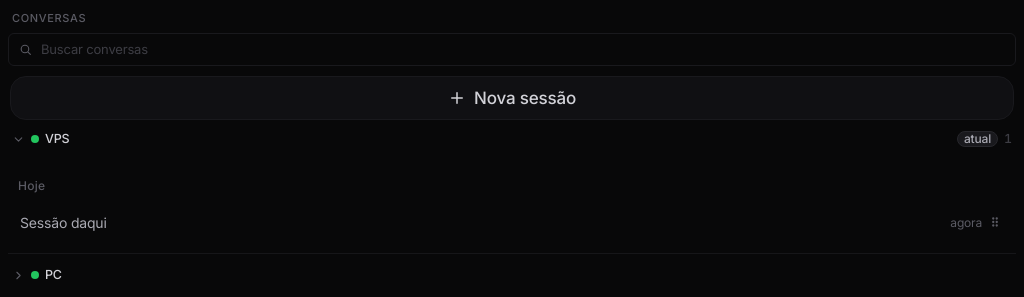
sidebar grouped by box › collapses the current box
Click the button with aria-label "Recolher VPS" at (978, 139), box x1=8 y1=126 x2=1016 y2=153
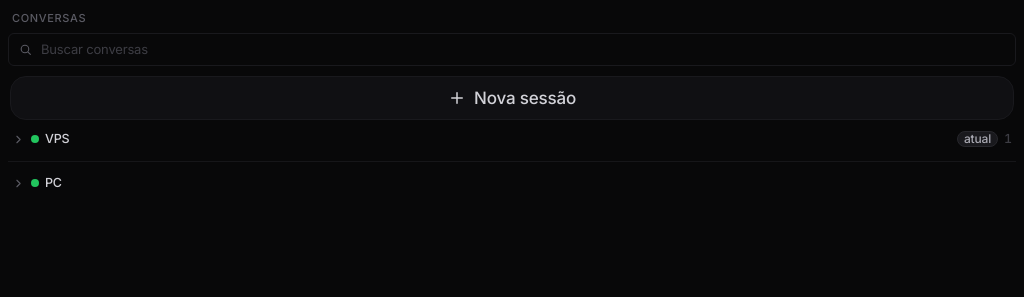
Check: the button "Sessão daqui" is gone
